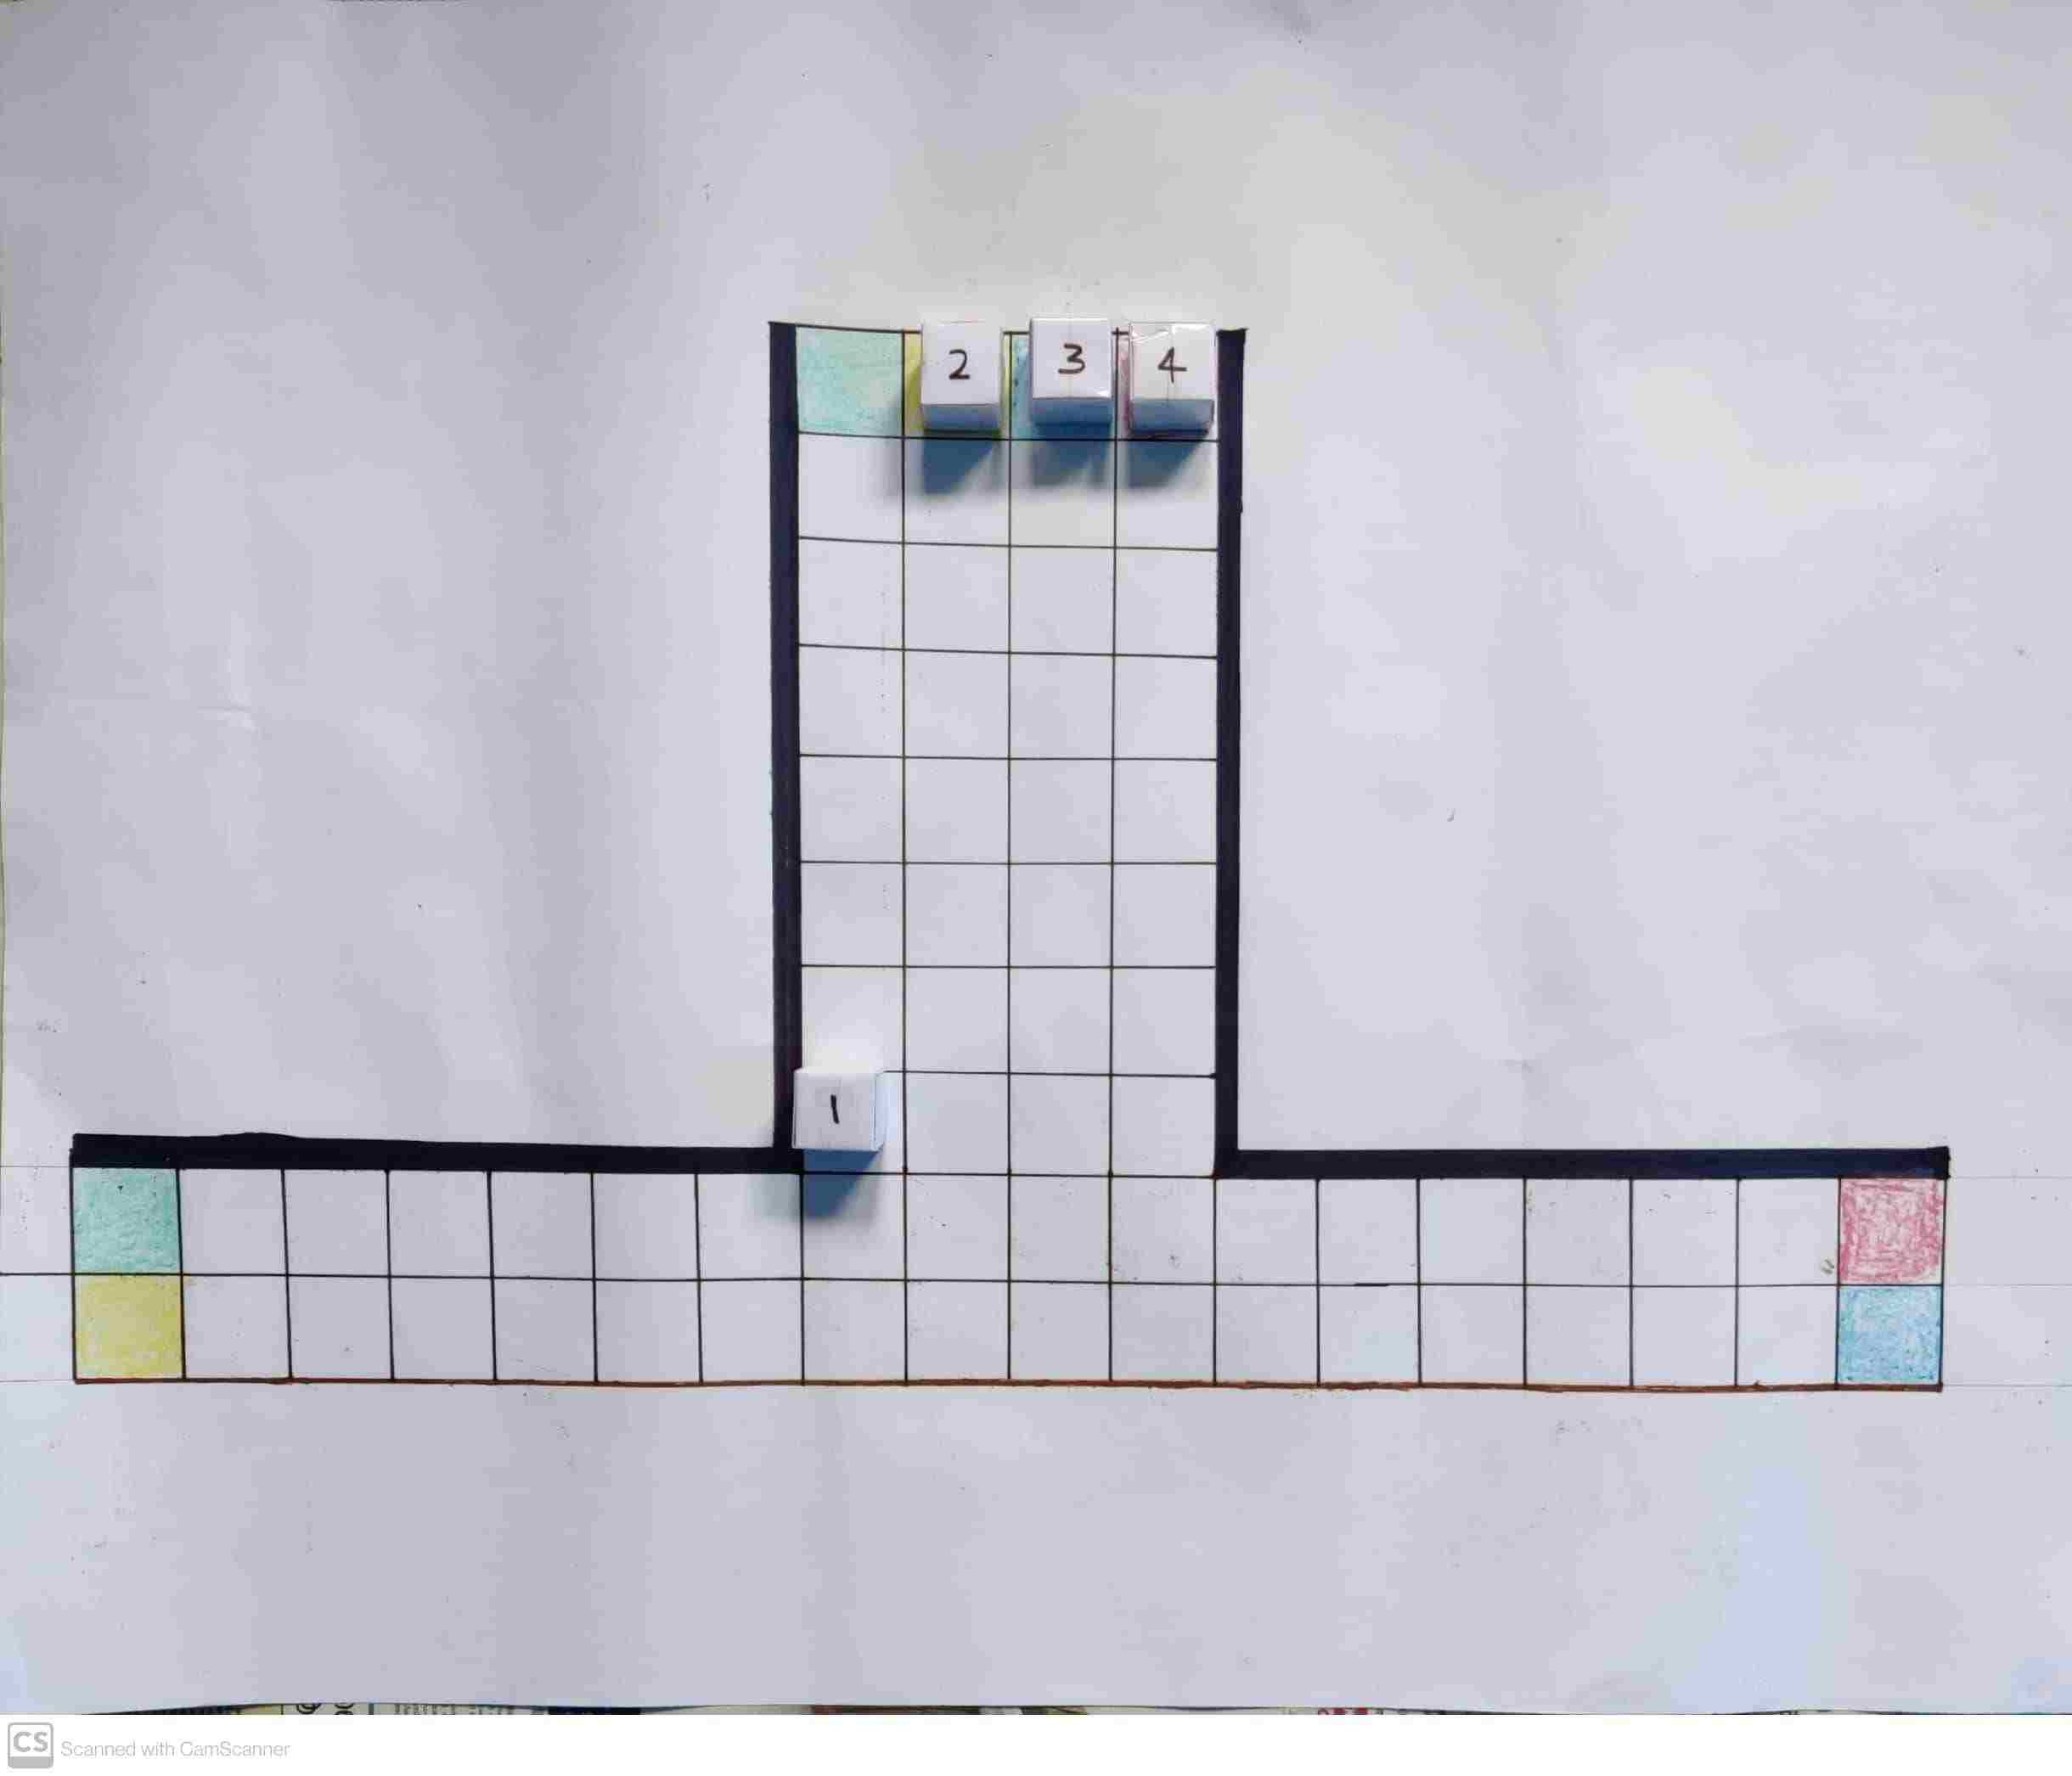arena: (67, 322, 1949, 1392)
bot: (793, 1075, 881, 1154), (923, 322, 1003, 407), (1034, 322, 1114, 403), (1133, 324, 1216, 400)
